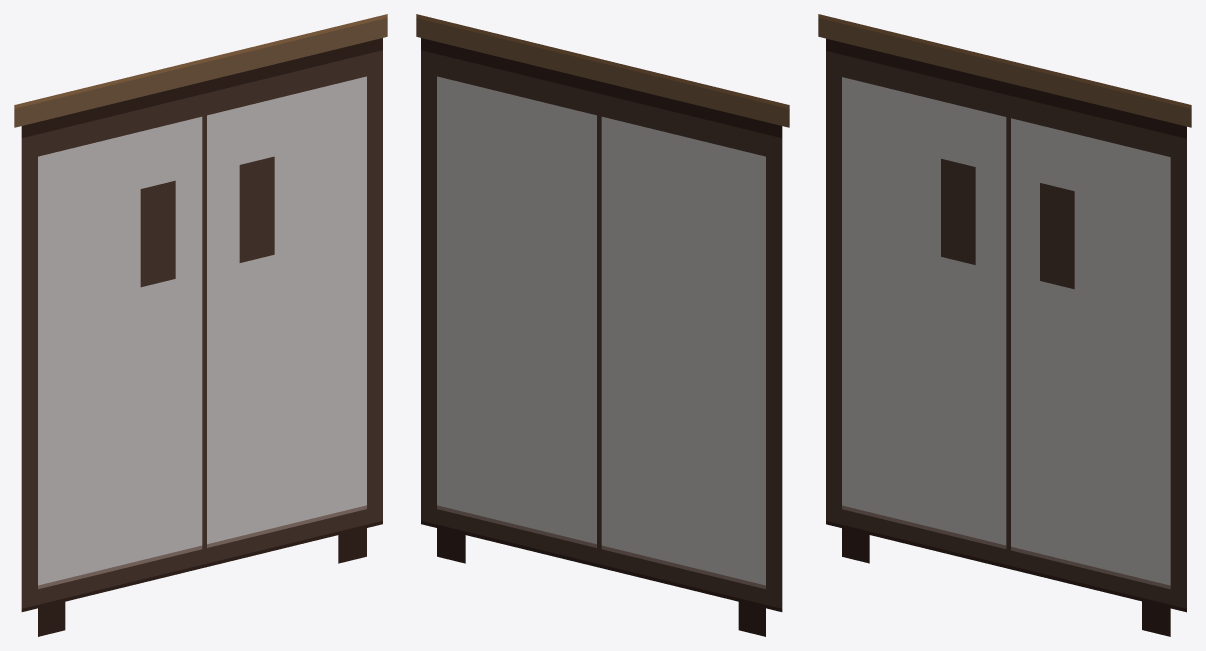
File: toolbox.FBX
3 views of the same model, side by side, from view 1: azimuth 30°, elevation 25°; view 2: azimuth 150°, elevation 25°; view 3: azimuth 330°, elevation 25° (orthographic).
Parts seen in each view (by area): view 1: toolboxes; view 2: toolboxes; view 3: toolboxes.
Part boxes in pixels (x1,y1,x2,y2): toolboxes: [14, 14, 387, 636]; toolboxes: [416, 14, 789, 636]; toolboxes: [818, 14, 1191, 636].
Bounding box in the file's own units: 70.64 × 97.17 × 0.6266.
